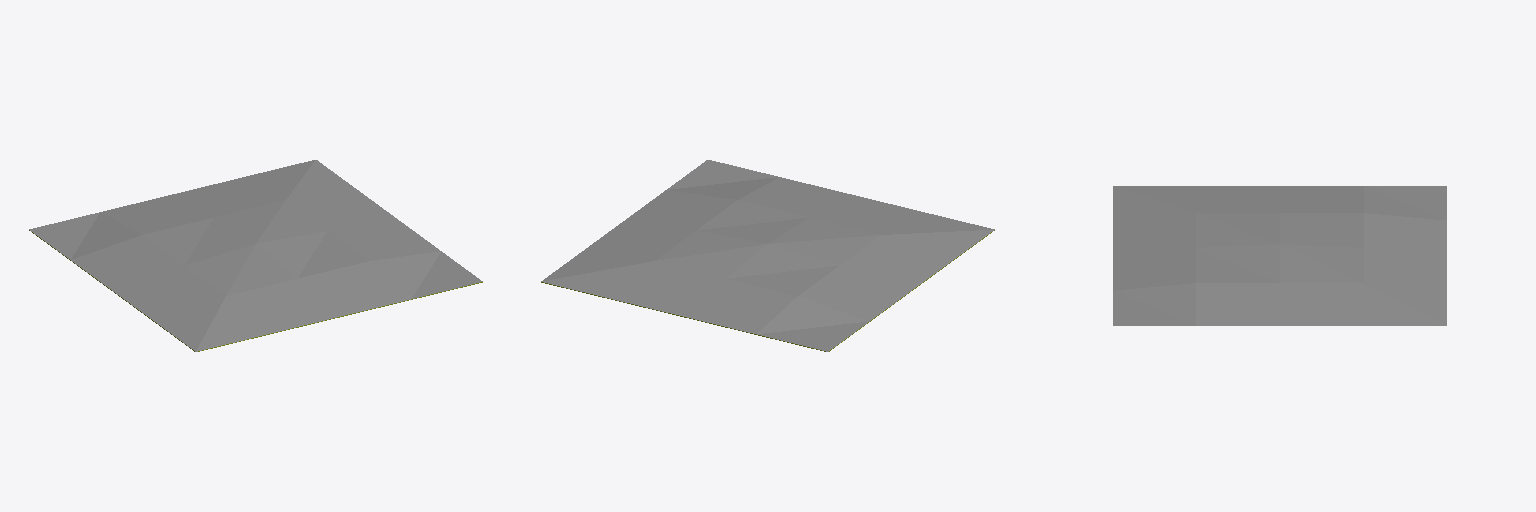
Rendered from apositoabsorvente.obj.
3 views of the same model, side by side, from view 1: azimuth 30°, elevation 25°; view 2: azimuth 150°, elevation 25°; view 3: azimuth 270°, elevation 25° (orthographic).
Visible parts, largest first — view 1: c002; view 2: c002; view 3: c002.
Part boxes in pixels (bbox=[...]): c002: bbox=[29, 160, 482, 351]; c002: bbox=[541, 160, 994, 351]; c002: bbox=[1113, 186, 1446, 325].
Size of the model in its own units: 48.43 by 3.88 by 48.81.